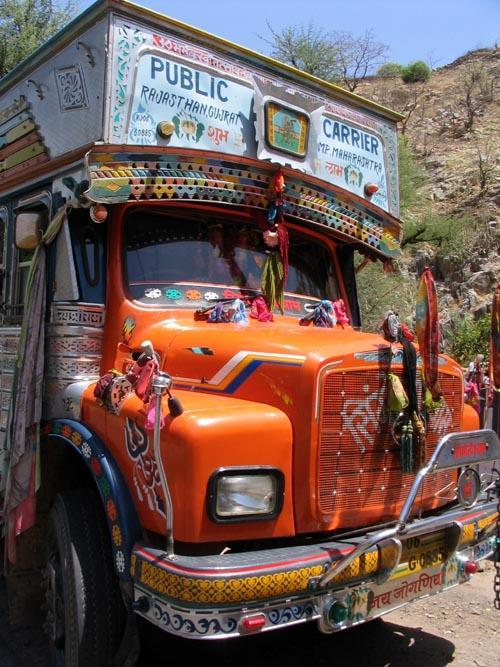truck: (11, 20, 489, 632)
